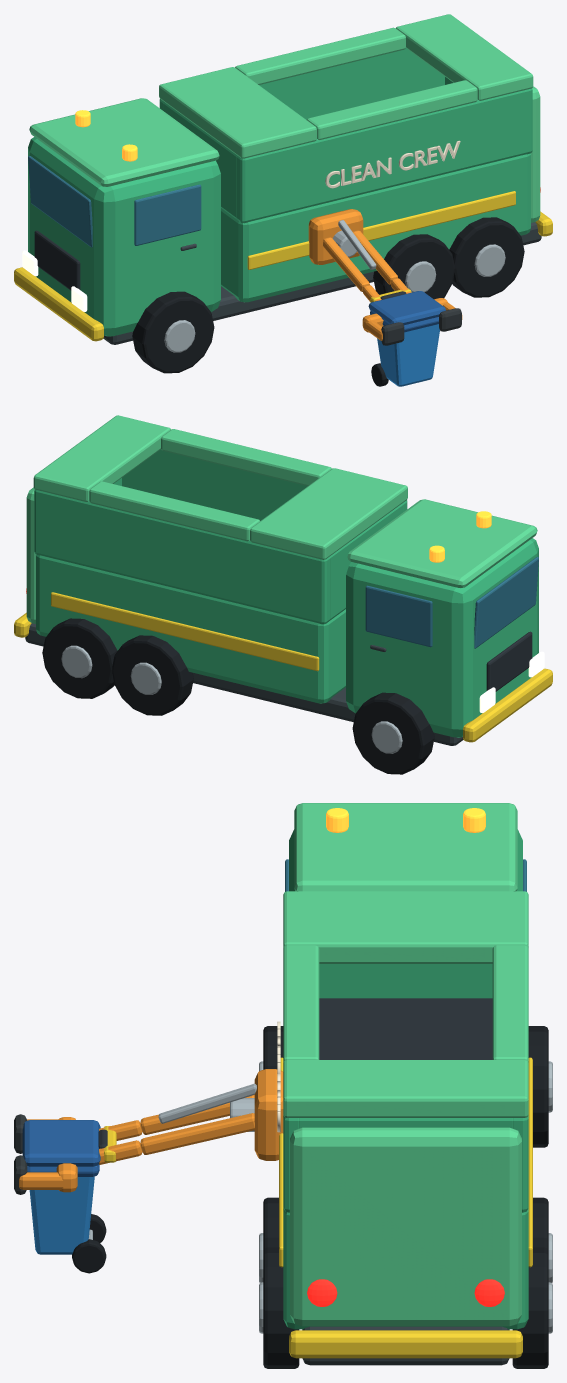
File: little_clean_crew.glb
The picture shows the model from 3 angles, top to bottom: view 1: azimuth 30°, elevation 25°; view 2: azimuth 150°, elevation 25°; view 3: azimuth 270°, elevation 25°; orthographic projection. The views are drawn at different scales.
Parts seen in each view (by area): view 1: Cab, Collection_Wall_Passenger, Collection_Body, Cab_Roof, Hopper_Rim_Front, Collection_Wall_Driver, Hopper_Rim_Rear, Wheel_1_Passenger, Hopper_Rim_Passenger, Hopper_Rim_Driver, Wheel_3_Passenger, Safety_Stripe_Passenger (+20 smaller); view 2: Collection_Wall_Driver, Cab, Collection_Body, Cab_Roof, Hopper_Rim_Front, Collection_Wall_Passenger, Hopper_Rim_Rear, Wheel_1_Driver, Wheel_2_Driver, Safety_Stripe_Driver, Hopper_Rim_Driver, Hopper_Rim_Passenger (+11 smaller); view 3: Rear_Tailgate, Cab_Roof, Hopper_Rim_Front, Hopper_Rim_Rear, Hopper_Floor, Rear_Bumper, Collection_Wall_Front, Hopper_Rim_Passenger, Hopper_Rim_Driver, ResidentialCan_Body, ResidentialCan_Lid, Wheel_3_Driver (+21 smaller).
Boxes of the visible parts, <box> form: Cab: <box>28,137,220,336</box>; Collection_Wall_Passenger: <box>236,88,532,223</box>; Collection_Body: <box>221,153,530,302</box>; Cab_Roof: <box>29,98,219,186</box>; Hopper_Rim_Front: <box>159,67,316,158</box>; Collection_Wall_Driver: <box>159,48,444,119</box>; Hopper_Rim_Rear: <box>396,14,533,100</box>; Wheel_1_Passenger: <box>132,291,214,373</box>; Hopper_Rim_Passenger: <box>307,80,477,139</box>; Hopper_Rim_Driver: <box>235,27,405,84</box>; Wheel_3_Passenger: <box>449,217,524,297</box>; Safety_Stripe_Passenger: <box>247,191,515,269</box>; Collection_Wall_Driver: <box>34,489,330,624</box>; Cab: <box>346,538,538,737</box>; Collection_Body: <box>36,554,345,703</box>; Cab_Roof: <box>347,499,537,588</box>; Hopper_Rim_Front: <box>250,468,407,559</box>; Collection_Wall_Passenger: <box>122,449,407,520</box>; Hopper_Rim_Rear: <box>33,415,170,501</box>; Wheel_1_Driver: <box>352,692,434,774</box>; Wheel_2_Driver: <box>112,635,193,715</box>; Safety_Stripe_Driver: <box>51,592,319,671</box>; Hopper_Rim_Driver: <box>89,481,259,541</box>; Hopper_Rim_Passenger: <box>161,429,331,486</box>; Rear_Tailgate: <box>290,1127,521,1326</box>; Cab_Roof: <box>294,803,517,891</box>; Hopper_Rim_Front: <box>283,891,528,963</box>; Hopper_Rim_Rear: <box>283,1060,528,1117</box>; Hopper_Floor: <box>319,998,492,1059</box>; Rear_Bumper: <box>289,1330,522,1358</box>; Collection_Wall_Front: <box>319,964,492,998</box>; Hopper_Rim_Passenger: <box>283,945,319,1062</box>; Hopper_Rim_Driver: <box>492,945,528,1062</box>; ResidentialCan_Body: <box>29,1176,94,1254</box>; ResidentialCan_Lid: <box>22,1120,100,1166</box>; Wheel_3_Driver: <box>512,1247,548,1368</box>.
Bounding box in the file's own units: 8.2 × 3.67 × 5.67.
